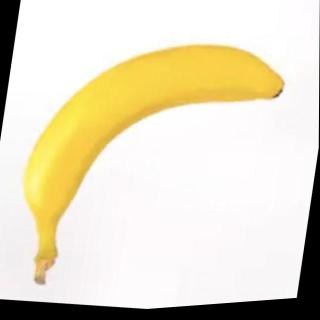banana: (13, 17, 293, 262)
